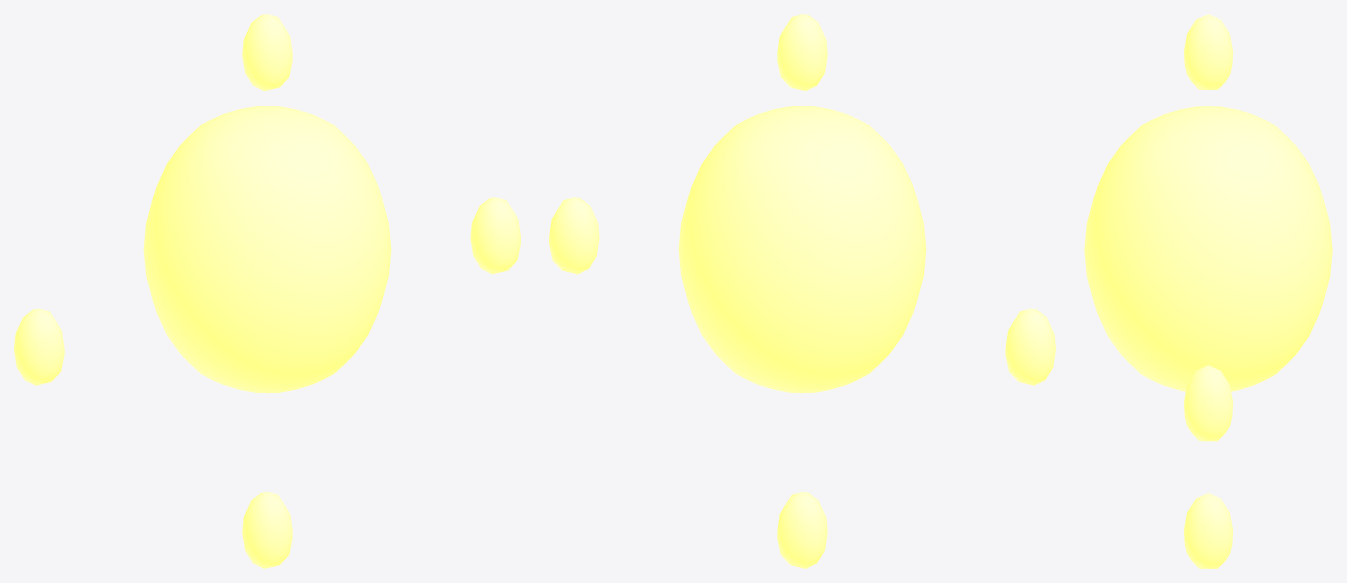
File: sparkle.glb
3 renders of one model, left to right at view 1: azimuth 30°, elevation 25°; view 2: azimuth 150°, elevation 25°; view 3: azimuth 270°, elevation 25°, orthographic.
Parts seen in each view (by area): view 1: sparkle; view 2: sparkle; view 3: sparkle.
Part boxes in pixels (left/top/right/bottom): sparkle: left=14, top=14, right=520, bottom=568; sparkle: left=549, top=14, right=1055, bottom=568; sparkle: left=1084, top=14, right=1332, bottom=568.
Size of the model in its own units: 0.175 by 0.1854 by 0.0752.
